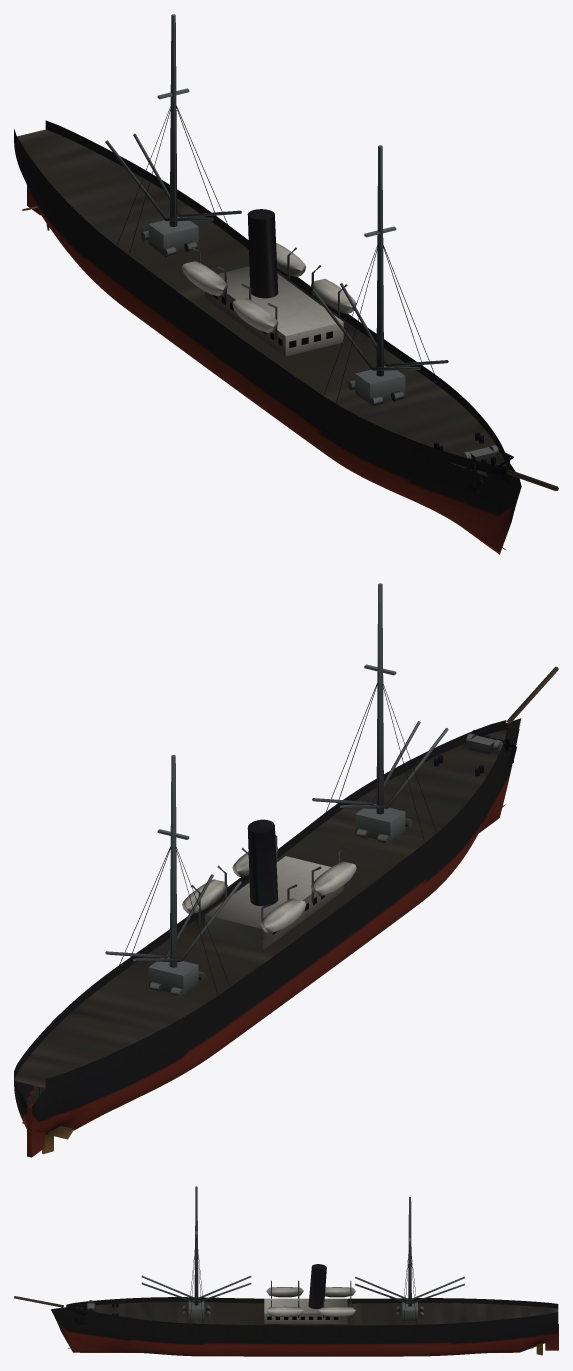
The model's file is model_built.glb.
3 views of the same model, one above another, from view 1: azimuth 30°, elevation 25°; view 2: azimuth 150°, elevation 25°; view 3: azimuth 270°, elevation 25° (orthographic). The views are drawn at different scales.
Visible parts, largest first — view 1: main; view 2: main; view 3: main.
Boxes of the visible parts, left/top/right/bottom form: main: left=14, top=14, right=558, bottom=554; main: left=14, top=583, right=558, bottom=1157; main: left=14, top=1186, right=558, bottom=1356.
Size of the model in its own units: 12.1 by 35.55 by 105.
2 materials, 2 textured.
